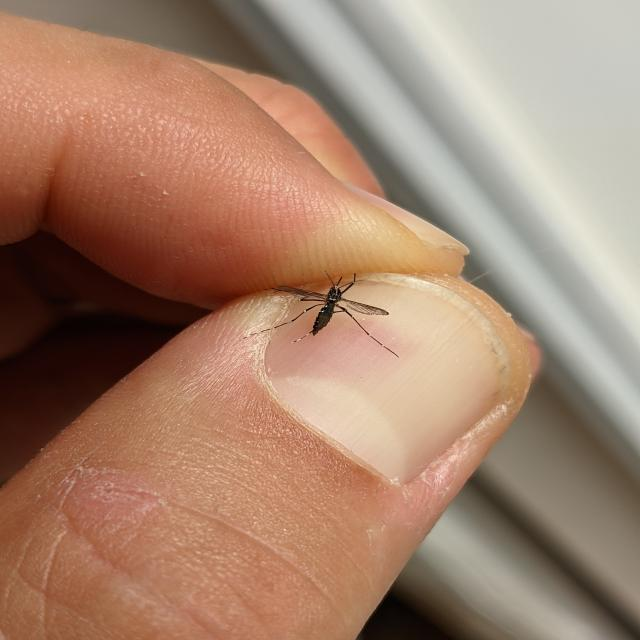albopictus: (253, 263, 396, 352)
